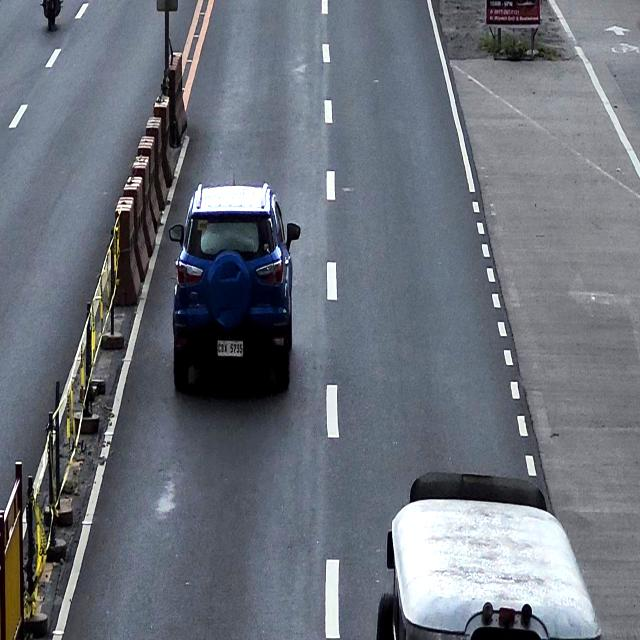Car: (170, 186, 302, 395)
Jeep: (374, 471, 604, 640)
License-Plate: (216, 338, 245, 359)
